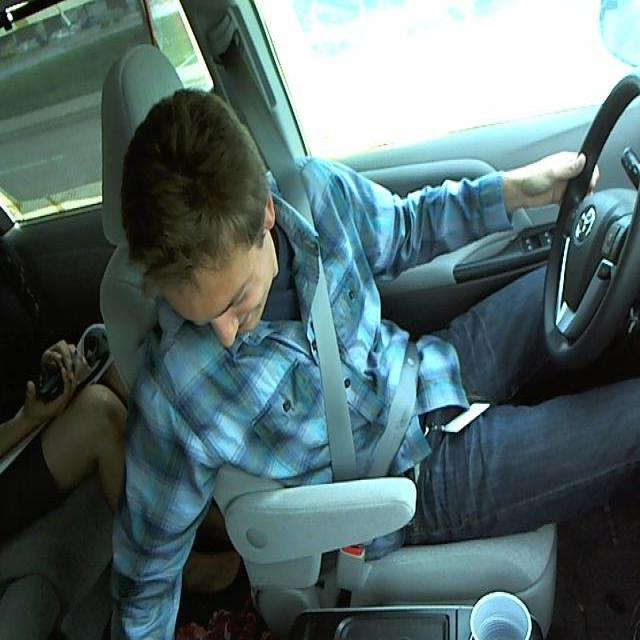seatbelt: (284, 231, 431, 468)
